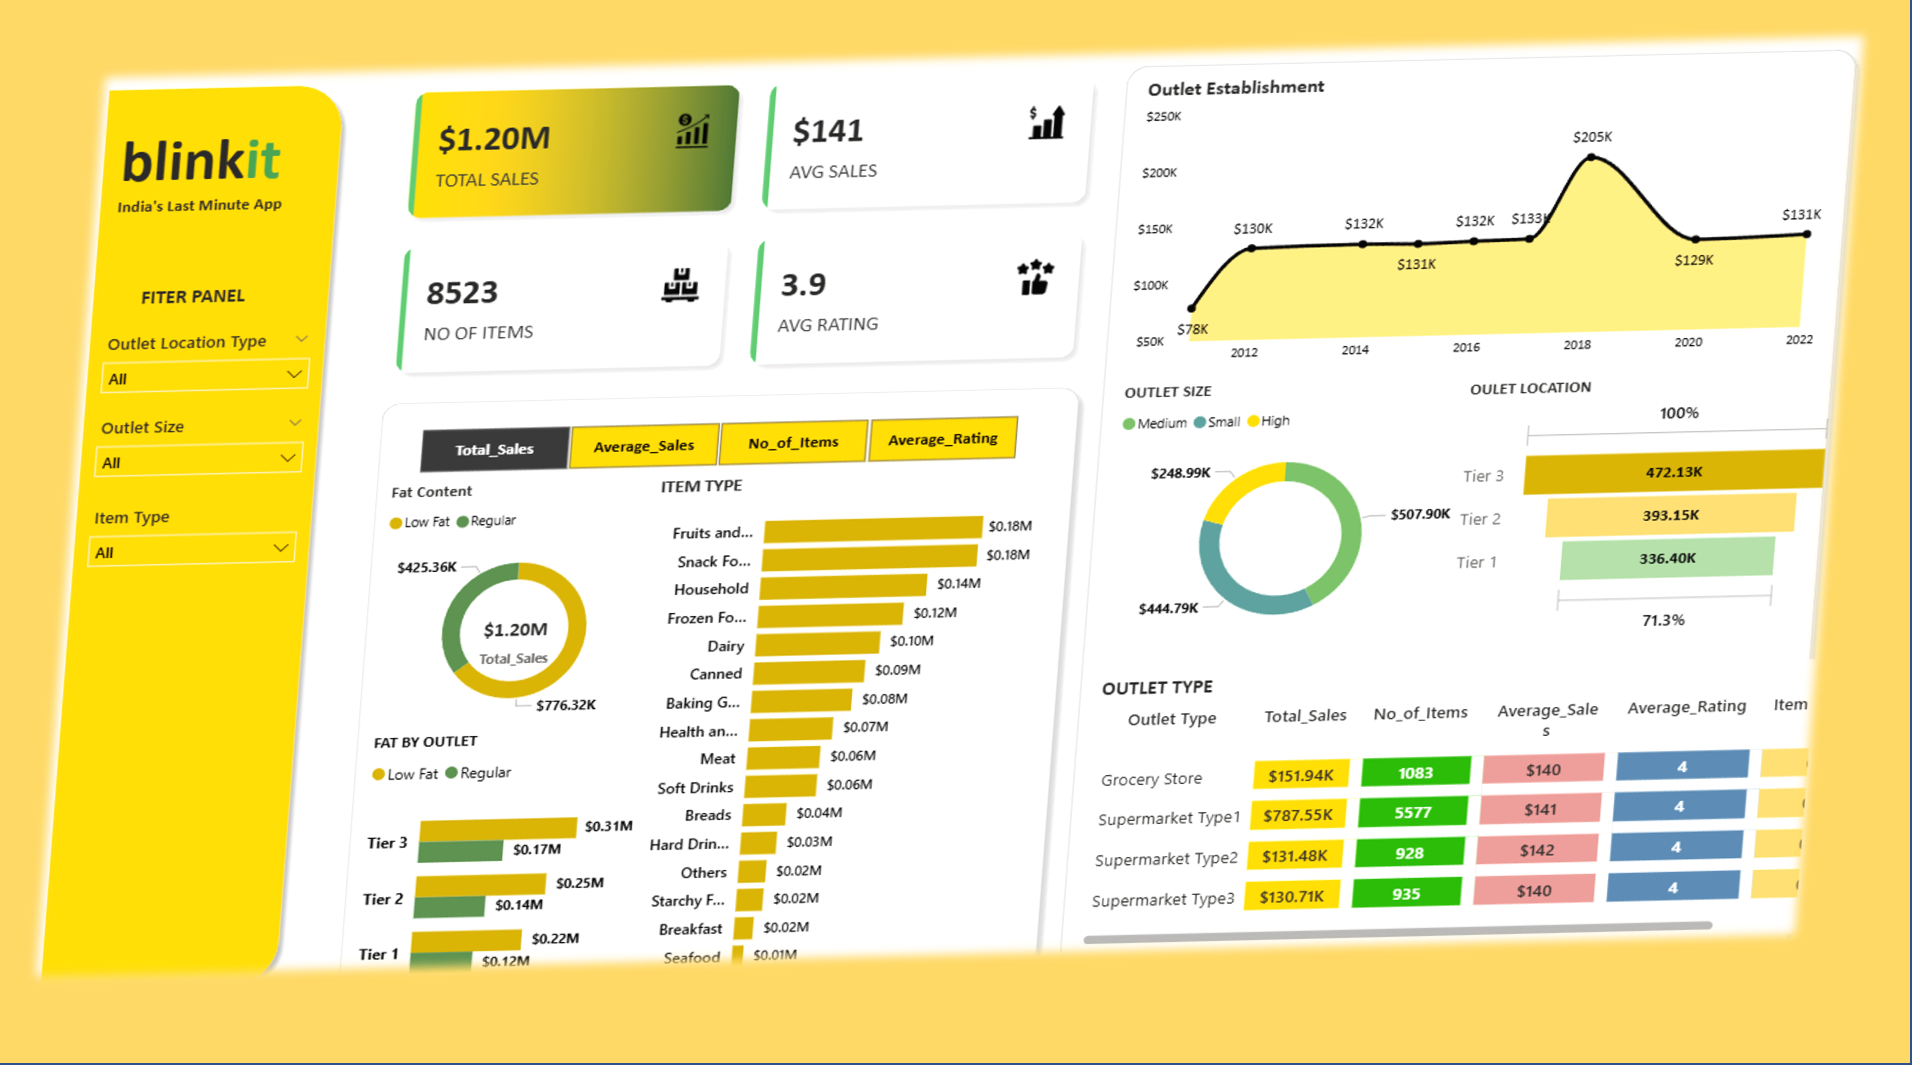

Layout of this report page (visuals, bound fields, positions):
{"tool":"powerbi","page":{"name":"Page 1","canvas":[1400,800],"ordinal":0},"visuals":[{"type":"shape","box":[0,13.5,204.1,775.9],"z":0},{"type":"textbox","box":[18,49.5,159.1,78],"z":1000},{"type":"textbox","box":[18,106.6,217.6,42],"z":2000},{"type":"cardVisual","fields":{"Data":["Blinkit_Grocery_Data.Total_Sales","Blinkit_Grocery_Data.Average_Sales","Blinkit_Grocery_Data.No_of_Items","Blinkit_Grocery_Data.Average_Rating"]},"box":[235.6,13.5,570.3,270.2],"z":3000},{"type":"shape","box":[235.3,283.6,569.8,506.2],"z":4000},{"type":"donutChart","title":"Fat Content","fields":{"Y":["Blinkit_Grocery_Data.Total_Sales","Blinkit_Grocery_Data.Total_Sales"],"Category":["Blinkit_Grocery_Data.Item Fat Content"]},"box":[251.8,358.6,221.3,211.1],"z":5000},{"type":"slicer","fields":{"Values":["Metrics.Metrics"]},"box":[252.1,309.2,520.8,49.5],"z":6000},{"type":"cardVisual","fields":{"Data":["Blinkit_Grocery_Data.Total_Sales"]},"box":[279.2,453.3,168.1,84],"z":7000},{"type":"clusteredBarChart","title":"FAT BY OUTLET","fields":{"Y":["Blinkit_Grocery_Data.Total_Sales"],"Category":["Blinkit_Grocery_Data.Outlet Location Type"],"Series":["Blinkit_Grocery_Data.Item Fat Content"]},"box":[253.1,569.8,220,230.2],"z":8000},{"type":"clusteredBarChart","title":"ITEM TYPE","fields":{"Category":["Blinkit_Grocery_Data.Item Type"],"Y":["Blinkit_Grocery_Data.Total_Sales"]},"box":[465.5,358.6,306.5,431.1],"z":8001},{"type":"shape","box":[805.1,14,595.2,775.8],"z":8002},{"type":"lineChart","title":"Outlet Establishment","fields":{"Category":["Blinkit_Grocery_Data.Outlet Establishment Year"],"Y":["Blinkit_Grocery_Data.Total_Sales"]},"box":[826.7,33.1,552,250.5],"z":8003},{"type":"donutChart","title":"OUTLET SIZE","fields":{"Y":["Blinkit_Grocery_Data.Total_Sales"],"Category":["Blinkit_Grocery_Data.Outlet Size"]},"box":[826.7,290,274.7,225.1],"z":8004},{"type":"funnel","title":"OULET LOCATION","fields":{"Y":["Sum(Blinkit_Grocery_Data.Sales)"],"Category":["Blinkit_Grocery_Data.Outlet Location Type"]},"box":[1100.1,293.8,300.1,221.3],"z":8005},{"type":"pivotTable","title":"OUTLET TYPE","fields":{"Rows":["Blinkit_Grocery_Data.Outlet Type"],"Values":["Blinkit_Grocery_Data.Total_Sales","Blinkit_Grocery_Data.No_of_Items","Blinkit_Grocery_Data.Average_Sales","Blinkit_Grocery_Data.Average_Rating","Avg(Blinkit_Grocery_Data.Item Visibility)"]},"box":[826.7,536.7,573.6,231.5],"z":8006},{"type":"slicer","fields":{"Values":["Blinkit_Grocery_Data.Outlet Location Type"]},"box":[10.2,222.6,184.4,71.2],"z":8007},{"type":"slicer","fields":{"Values":["Blinkit_Grocery_Data.Outlet Size"]},"box":[10.2,293.8,184.4,71.2],"z":8008},{"type":"slicer","fields":{"Values":["Blinkit_Grocery_Data.Item Type"]},"box":[10.2,368.8,184.4,71.2],"z":8009},{"type":"textbox","box":[42,184.4,134.8,38.2],"z":8010}]}

Visuals, with their boxes in screenshot pixels (x1, y1, x2, y2), scaled from the page's 1400x800 canvas onto the 1920x1080 screenshot:
shape: box=[0, 18, 280, 1066]
textbox: box=[25, 67, 243, 172]
textbox: box=[25, 144, 323, 201]
cardVisual - Blinkit_Grocery_Data.Total_Sales x Blinkit_Grocery_Data.Average_Sales: box=[323, 18, 1105, 383]
shape: box=[323, 383, 1104, 1066]
"Fat Content" donutChart: box=[345, 484, 649, 769]
slicer - Metrics.Metrics: box=[346, 417, 1060, 484]
cardVisual - Blinkit_Grocery_Data.Total_Sales: box=[383, 612, 613, 725]
"FAT BY OUTLET" clusteredBarChart: box=[347, 769, 649, 1079]
"ITEM TYPE" clusteredBarChart: box=[638, 484, 1059, 1066]
shape: box=[1104, 19, 1919, 1066]
"Outlet Establishment" lineChart: box=[1134, 45, 1891, 383]
"OUTLET SIZE" donutChart: box=[1134, 392, 1510, 695]
"OULET LOCATION" funnel: box=[1509, 397, 1919, 695]
"OUTLET TYPE" pivotTable: box=[1134, 725, 1919, 1037]
slicer - Blinkit_Grocery_Data.Outlet Location Type: box=[14, 301, 267, 397]
slicer - Blinkit_Grocery_Data.Outlet Size: box=[14, 397, 267, 493]
slicer - Blinkit_Grocery_Data.Item Type: box=[14, 498, 267, 594]
textbox: box=[58, 249, 242, 301]
